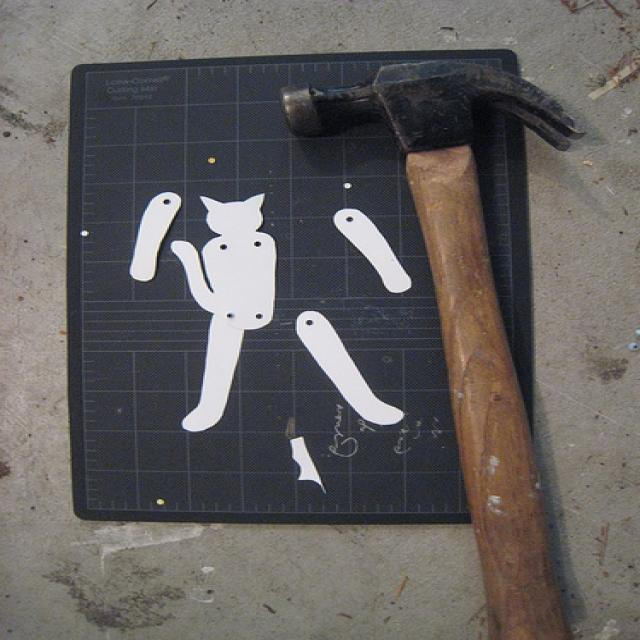hammer: (272, 53, 594, 640)
